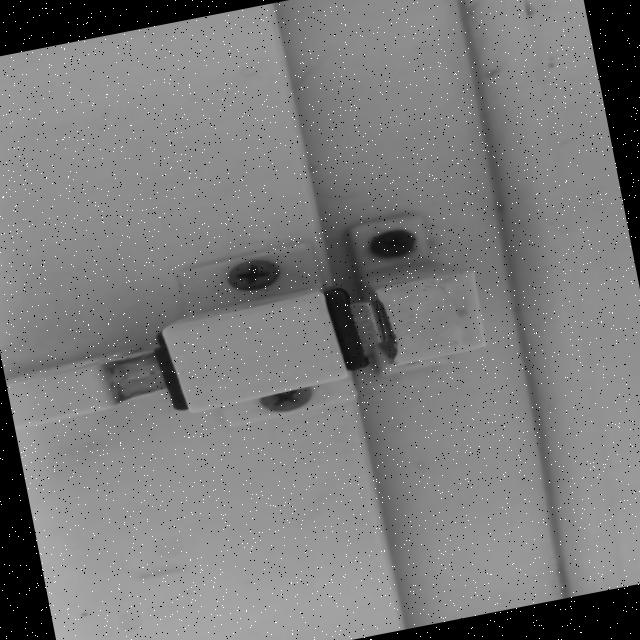Phillips: (352, 218, 438, 267), (216, 252, 288, 296)
